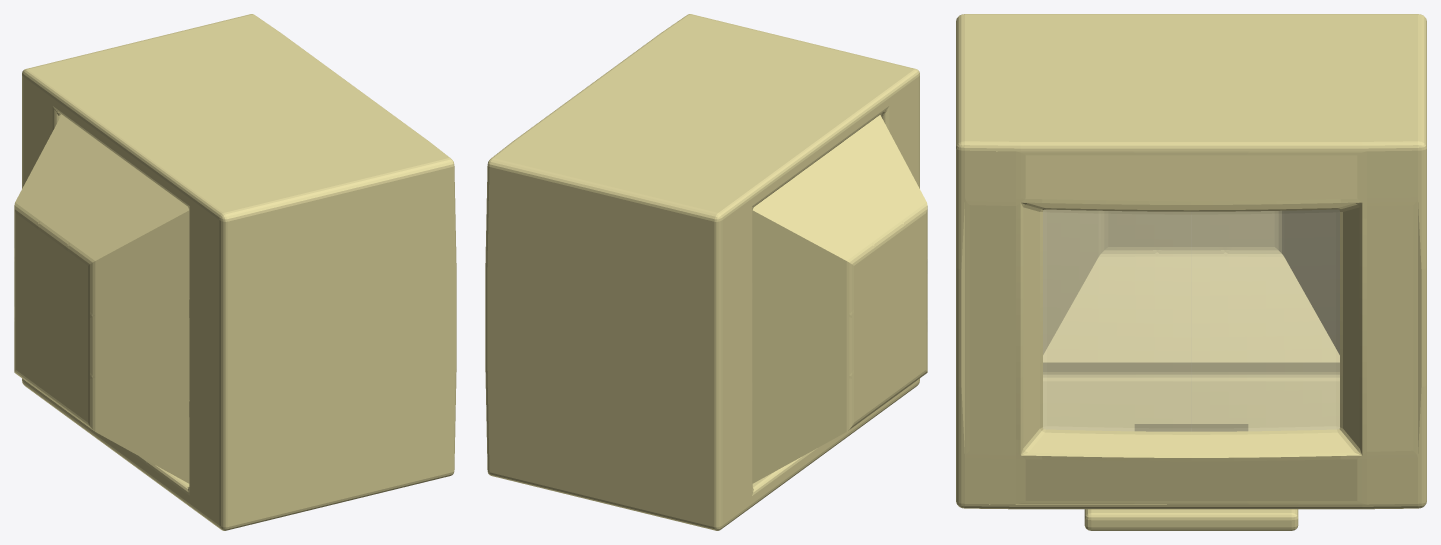
File: monitor 3.glb
3 views of the same model, side by side, from view 1: azimuth 30°, elevation 25°; view 2: azimuth 150°, elevation 25°; view 3: azimuth 270°, elevation 25° (orthographic). The views are drawn at different scales.
Visible parts, largest first — view 1: Cube; view 2: Cube; view 3: Cube.
Part boxes in pixels (box(x1,y1,x2,y2)): Cube: box(14, 14, 456, 530); Cube: box(485, 14, 927, 530); Cube: box(956, 14, 1426, 530).
Size of the model in its own units: 1.23 by 1.37 by 1.4.
